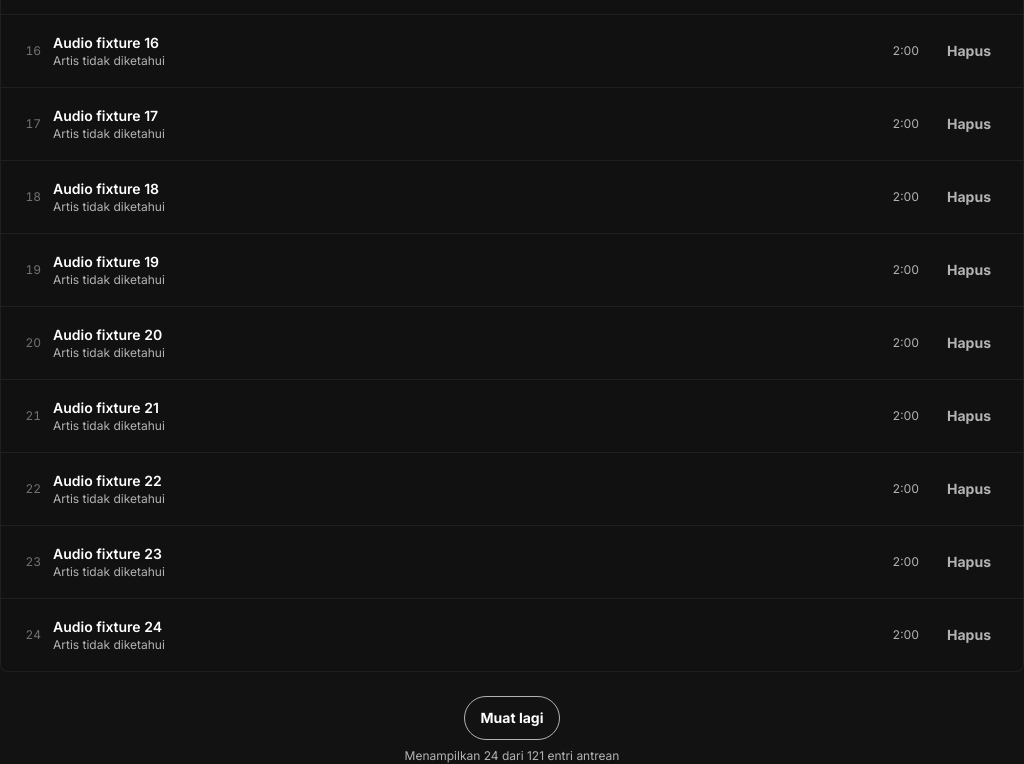
Test: QueuePage pagination › keeps entries visible when the next page fails and retries that page
(page scrolled)
Expected: the text "Audio fixture 24" is shown, [53, 618, 162, 635]
Click the button "Muat lagi" at (512, 718), box [464, 696, 560, 740]
(page scrolled)
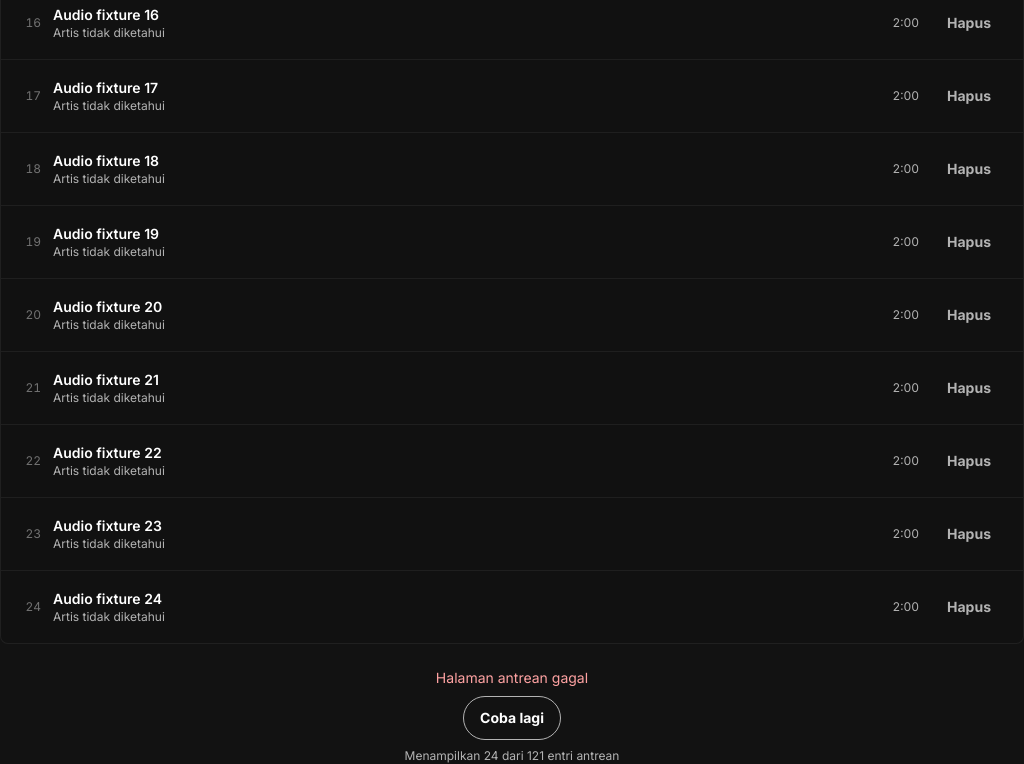
Result: the text "Halaman antrean gagal" is shown at [436, 668, 588, 688]
Click the button "Coba lagi" at (512, 718), box [463, 696, 561, 740]
(page scrolled)
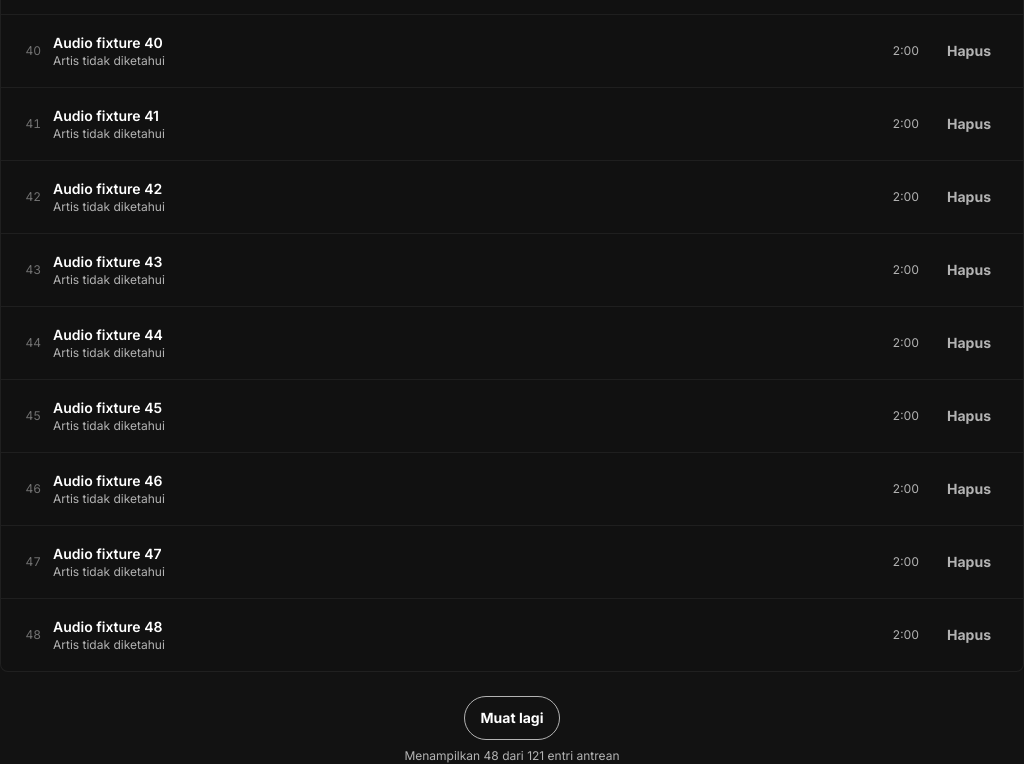
Result: the text "Audio fixture 48" is shown at [53, 618, 162, 635]
